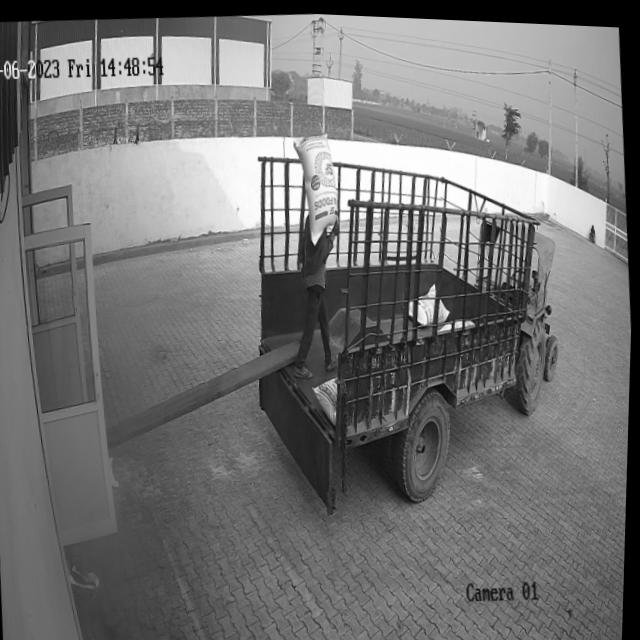sack: (292, 129, 342, 243)
